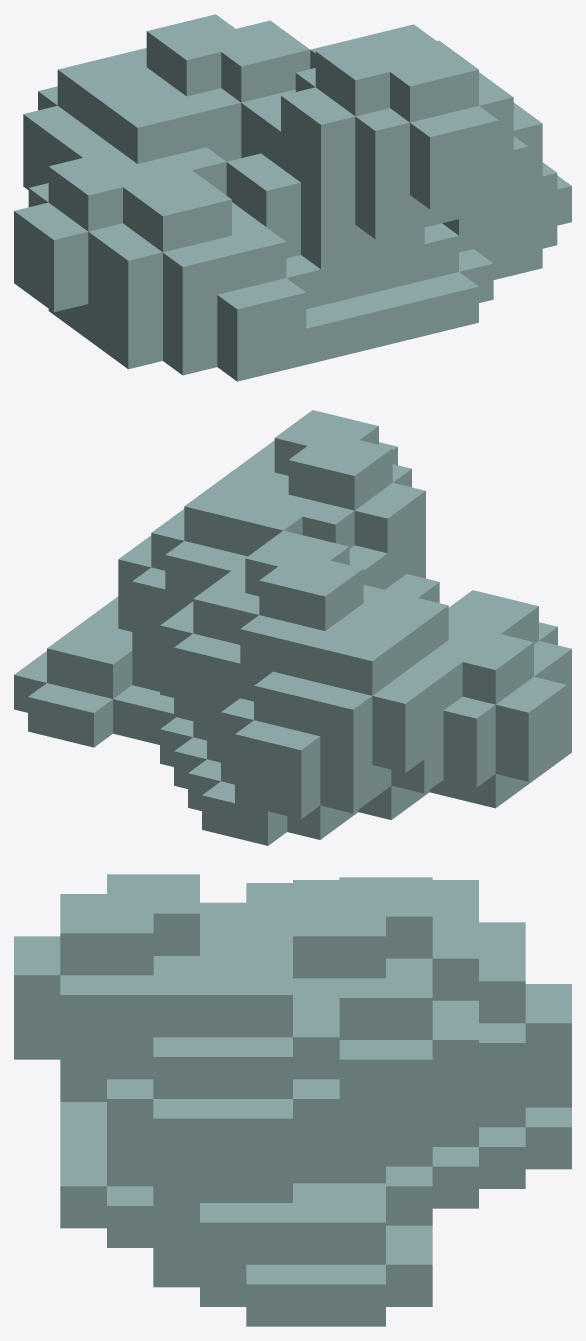
File: Rock1.obj
3 views of the same model, one above another, from view 1: azimuth 30°, elevation 25°; view 2: azimuth 150°, elevation 25°; view 3: azimuth 270°, elevation 25° (orthographic). The views are drawn at different scales.
Visible parts, largest first — view 1: Rock1; view 2: Rock1; view 3: Rock1.
Part boxes in pixels (x1,y1,x2,y2): Rock1: [14, 14, 571, 381]; Rock1: [14, 410, 571, 845]; Rock1: [14, 874, 571, 1326].
Bounding box in the file's own units: 15 × 7 × 12.
Materials: 1 (1 with a texture image).
